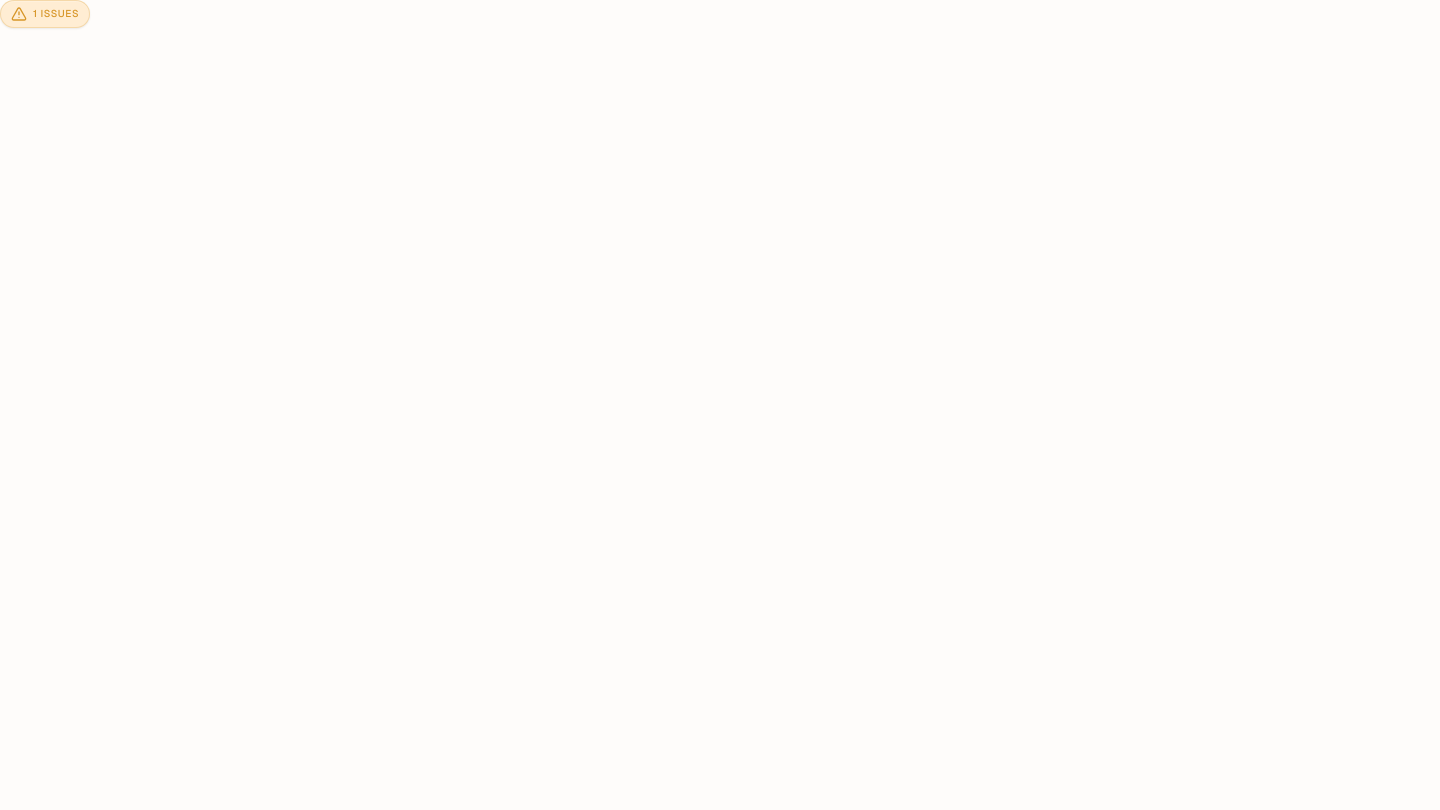
Test: PreviewStatus fidelity guidance › describes diagnostics without making a preview adapter authoritative
Click the button: (45, 14) [0, 0, 90, 28]
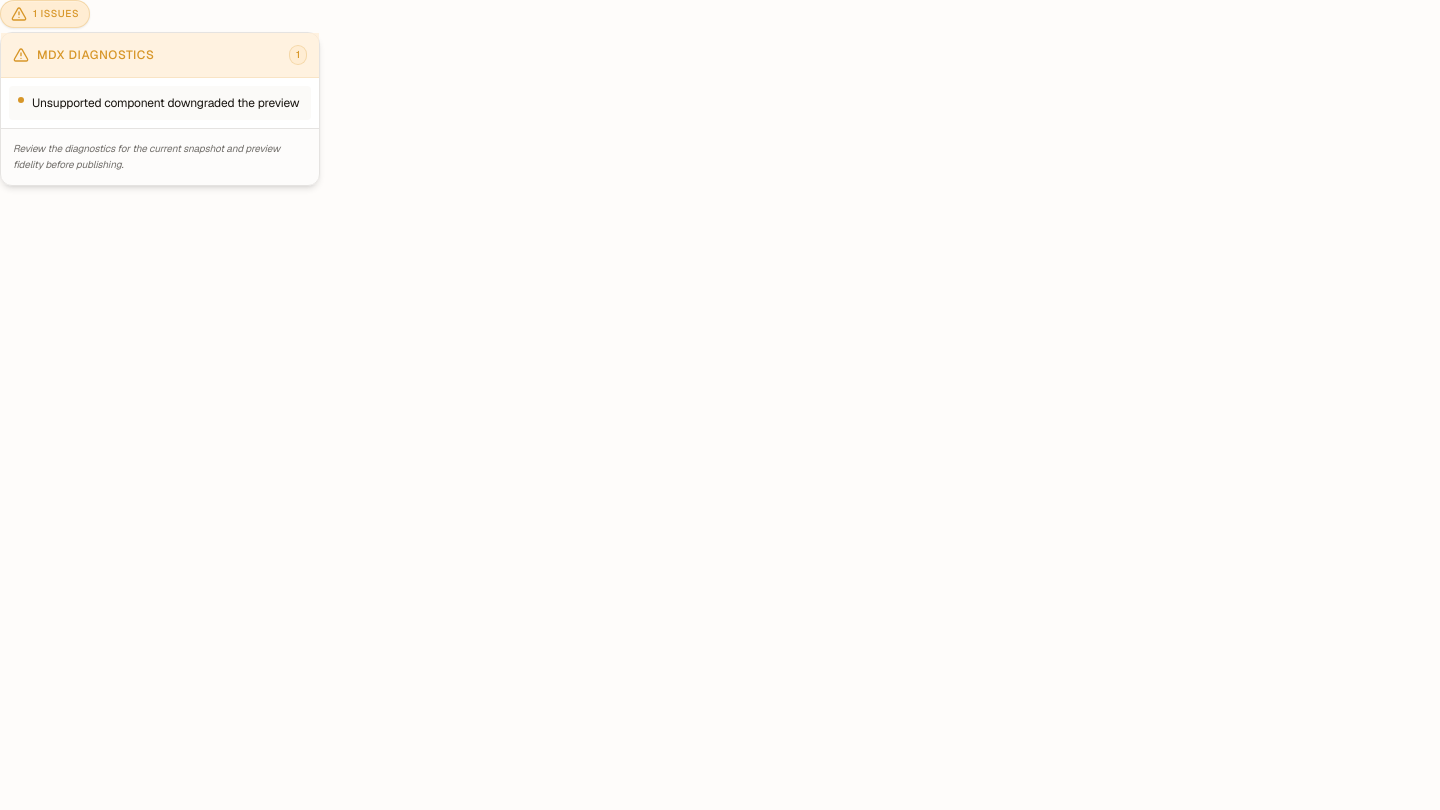
Check: the text "current snapshot and preview fidelity" is shown, box [13, 142, 280, 171]
